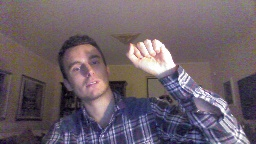Pugno: (123, 37, 177, 71)
